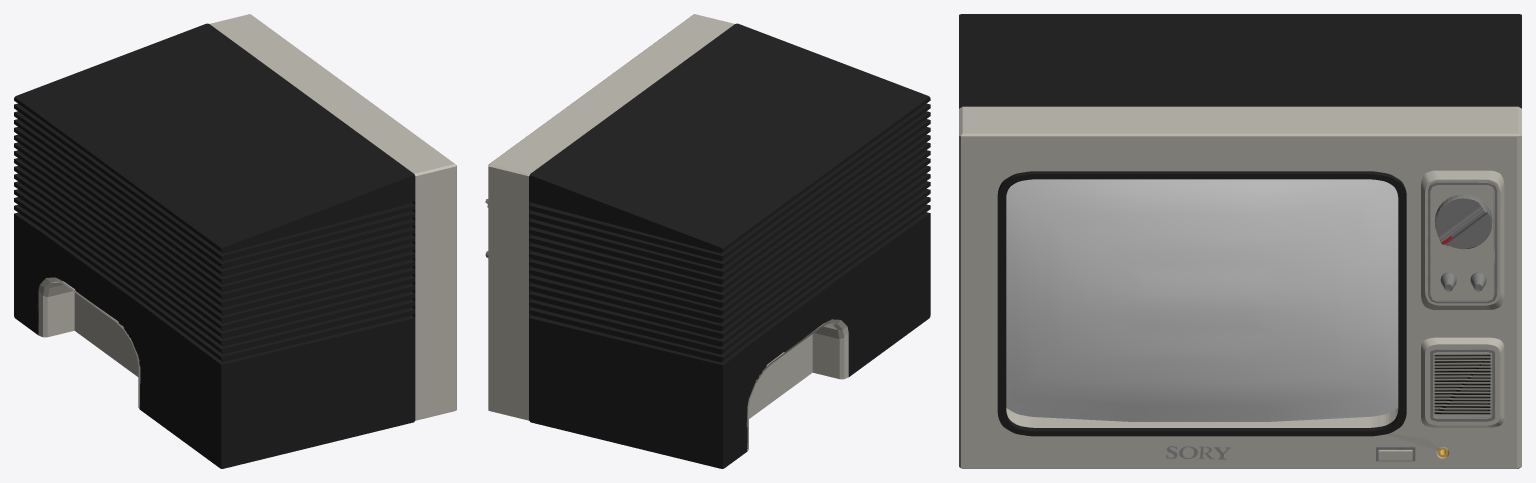
3 views of the same model, side by side, from view 1: azimuth 30°, elevation 25°; view 2: azimuth 150°, elevation 25°; view 3: azimuth 270°, elevation 25° (orthographic). The views are drawn at different scales.
Visible parts, largest first — view 1: Cube; view 2: Cube; view 3: Cube, 平面.
Part boxes in pixels (x1,y1,x2,y2): Cube: (14,14,456,468); Cube: (485,14,930,468); Cube: (959,14,1521,468); 平面: (1006,179,1398,421).
Bounding box in the file's own units: 657 × 616 × 937.
